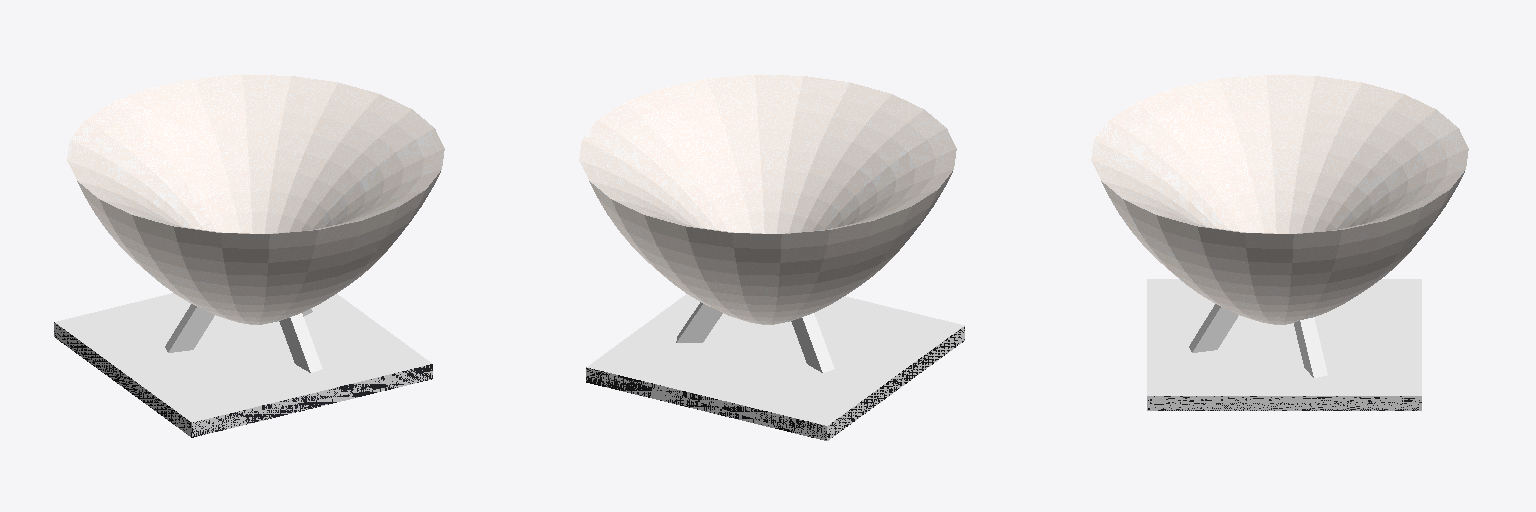
3 renders of one model, left to right at view 1: azimuth 30°, elevation 25°; view 2: azimuth 150°, elevation 25°; view 3: azimuth 270°, elevation 25°, orthographic.
Parts seen in each view (by area): view 1: mesh1_mesh1-geometry; view 2: mesh1_mesh1-geometry; view 3: mesh1_mesh1-geometry.
Boxes of the visible parts, x1,y1,x2,y2 form: mesh1_mesh1-geometry: [54, 75, 444, 437]; mesh1_mesh1-geometry: [579, 75, 964, 440]; mesh1_mesh1-geometry: [1091, 75, 1468, 410].
Size of the model in its own units: 0.6521 by 0.3868 by 0.6521.
Materials: 6 (1 with a texture image).